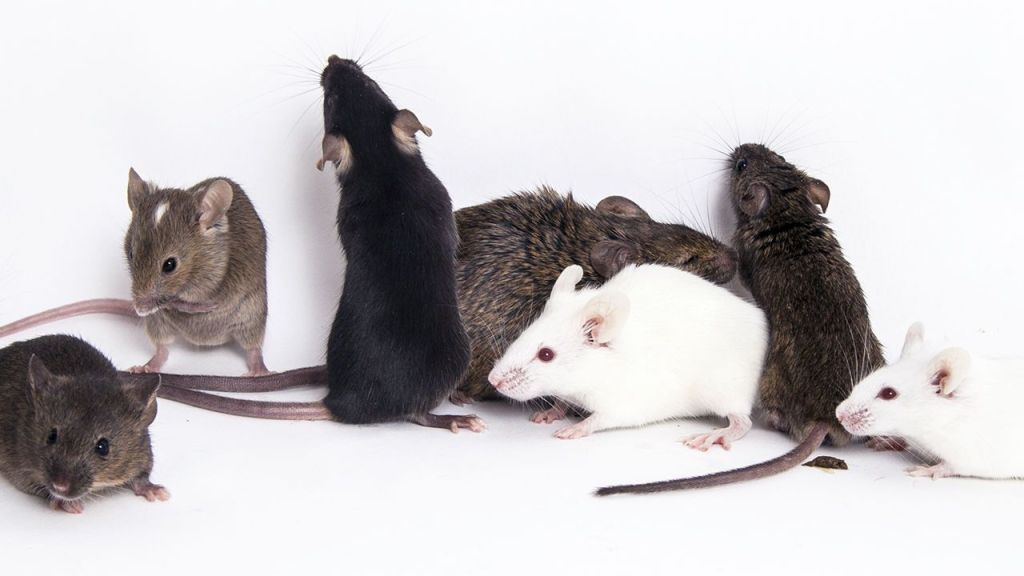mouse: (281, 29, 479, 454), (706, 110, 881, 439), (75, 150, 303, 382), (480, 265, 767, 427), (444, 162, 728, 285), (1, 326, 176, 515), (820, 329, 1024, 486)
